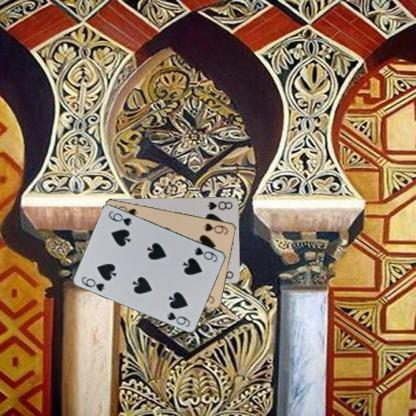6s: (192, 245, 219, 264), (79, 274, 106, 292), (202, 221, 229, 236)
8s: (205, 198, 234, 210)
